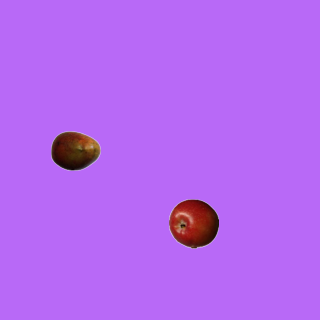Apple Braeburn: (168, 198, 218, 248)
Mango Red: (50, 125, 100, 175)
